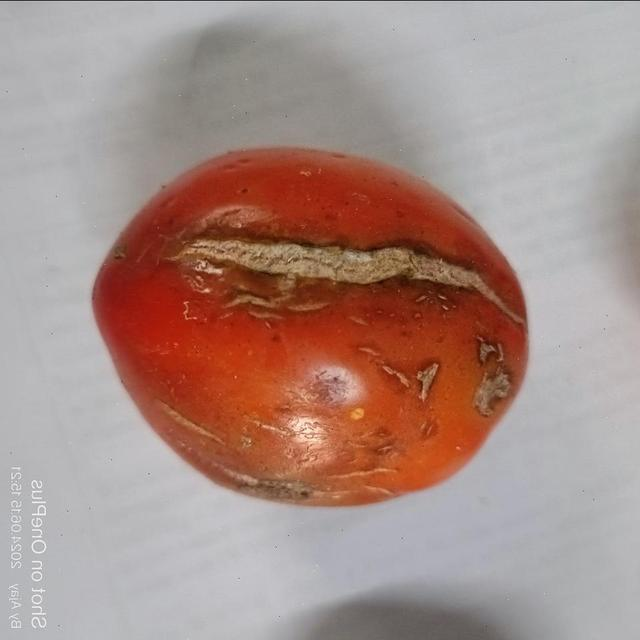Cracking Fruit: (289, 157, 349, 273)
